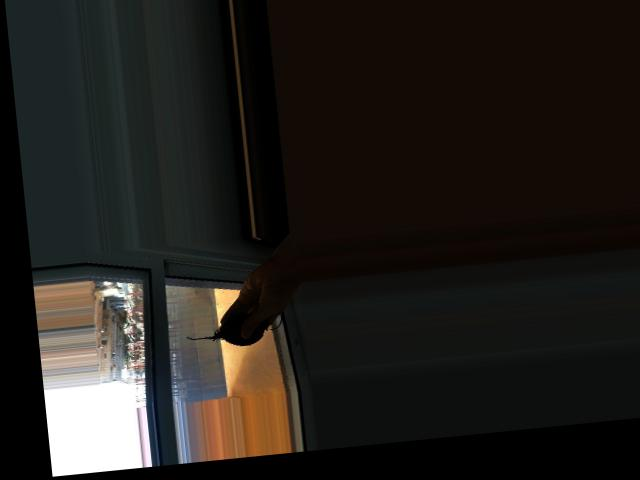beet: (183, 300, 284, 351)
